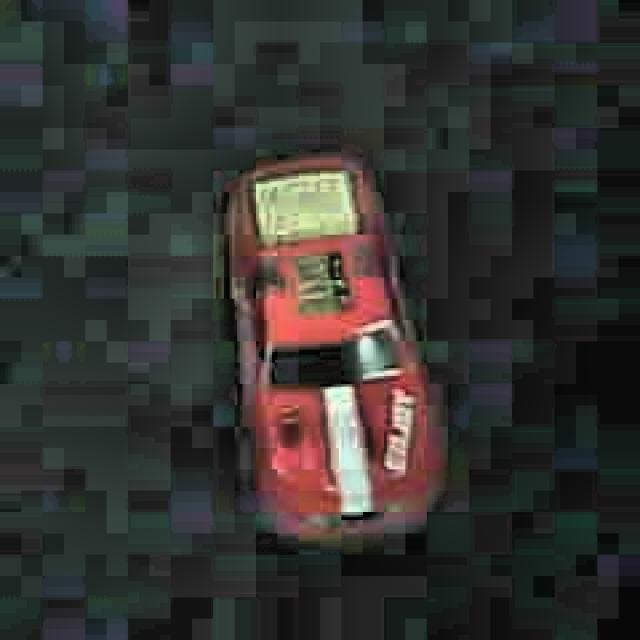car: (209, 145, 449, 546)
